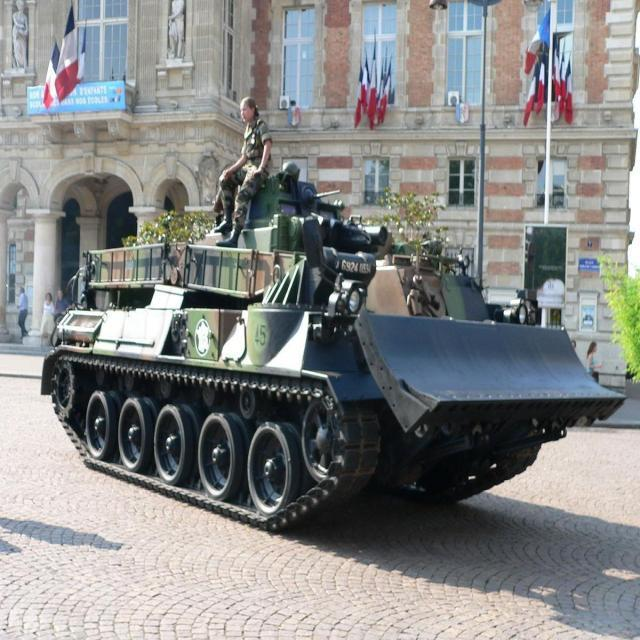MIL_MBT: (47, 176, 628, 530)
